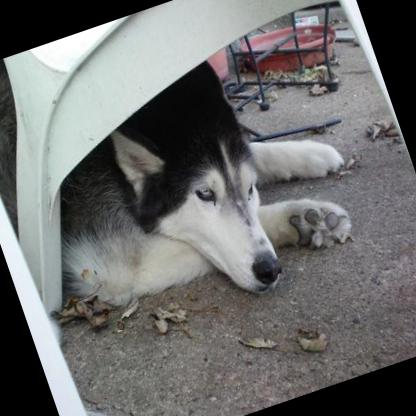Eskimo_dog: (0, 0, 376, 364)
